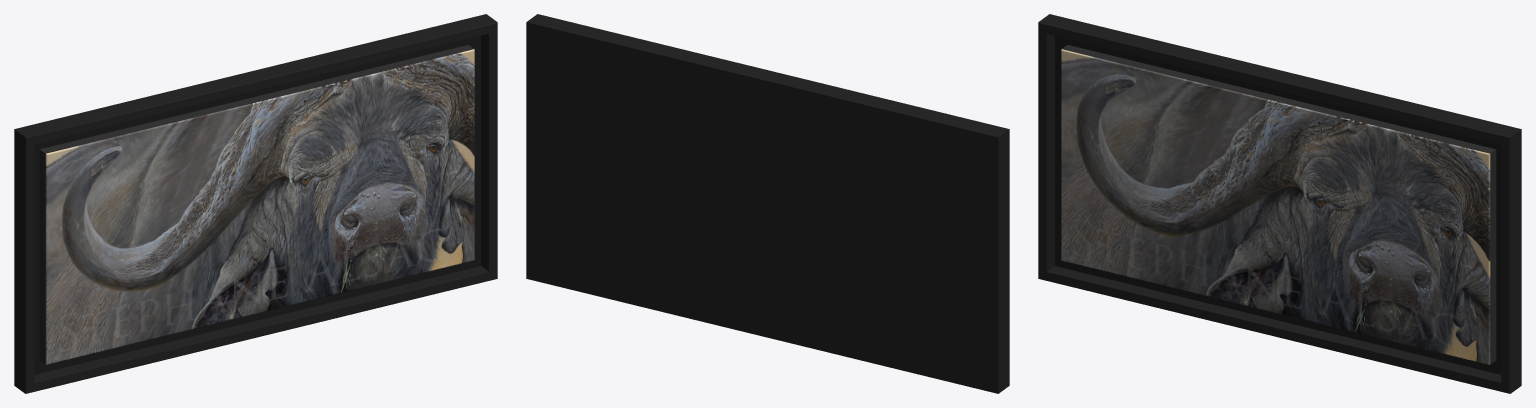
File: tableau-vieux-buffle-classique-881eff6b.glb
The picture shows the model from 3 angles, left to right: view 1: azimuth 30°, elevation 25°; view 2: azimuth 150°, elevation 25°; view 3: azimuth 330°, elevation 25°; orthographic projection.
Parts seen in each view (by area): view 1: Painting; view 2: Painting; view 3: Painting.
Part boxes in pixels (box(x1,y1,x2,y2)): Painting: box(14, 14, 497, 393); Painting: box(526, 14, 1009, 393); Painting: box(1038, 14, 1521, 393).
Bounding box in the file's own units: 0.936 × 0.486 × 0.04.
Materials: 4 (2 with a texture image).
